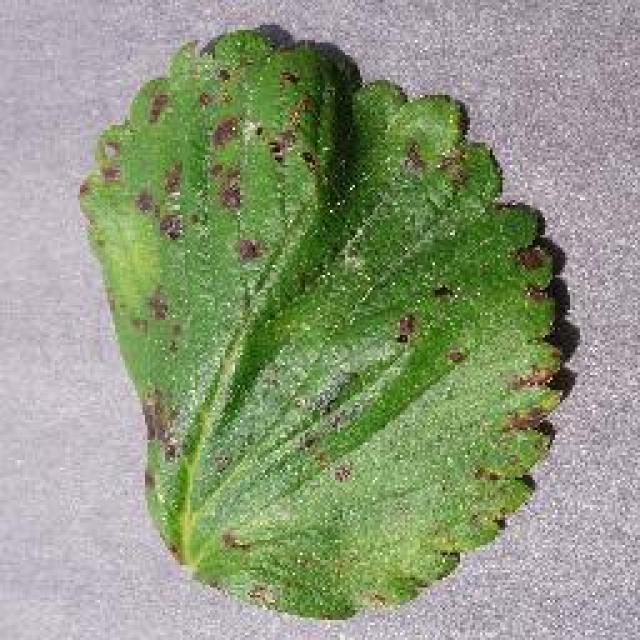Strawberry leaf scorch: (126, 91, 492, 482)
